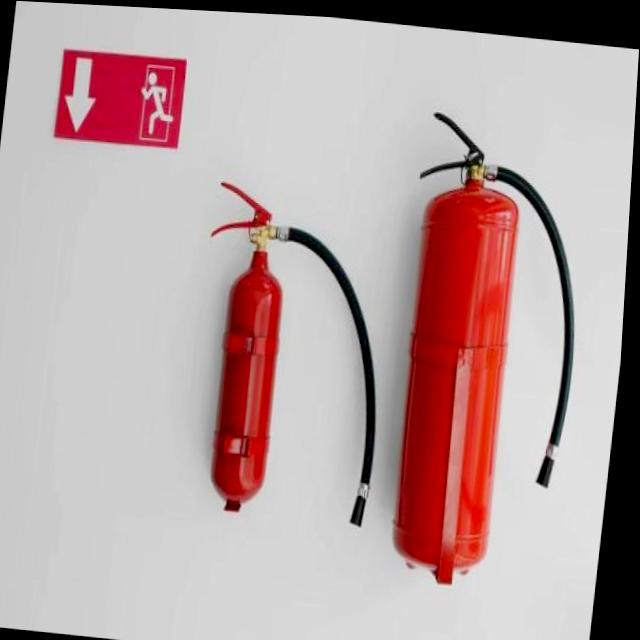FireExtinguisher: (376, 99, 605, 590), (181, 169, 410, 532)
